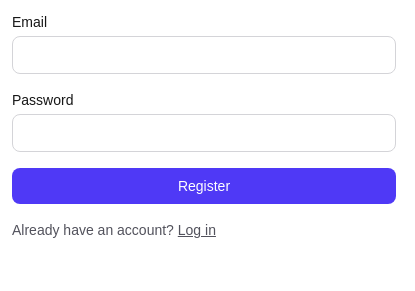
Test: AuthForm › shows an error for a taken email
Type "a@example.test" into the field labelled "Email" at point(204, 55), box [12,36,396,74]
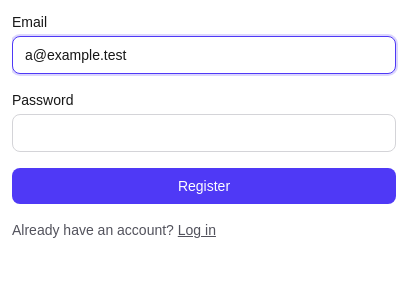
Type "test-password-123" into the password field labelled "Password" at point(204, 133), box [12,114,396,152]
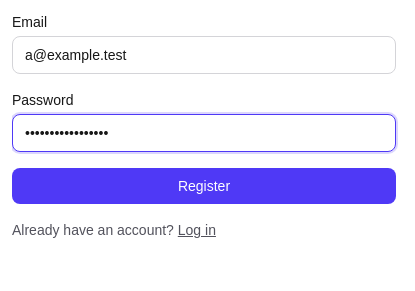
Click the button "Register" at point(204, 186), box [12,168,396,204]
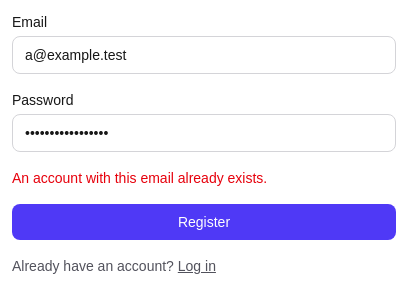
Expected: the message reads "An account with this email already exists.", [12,170,267,186]
